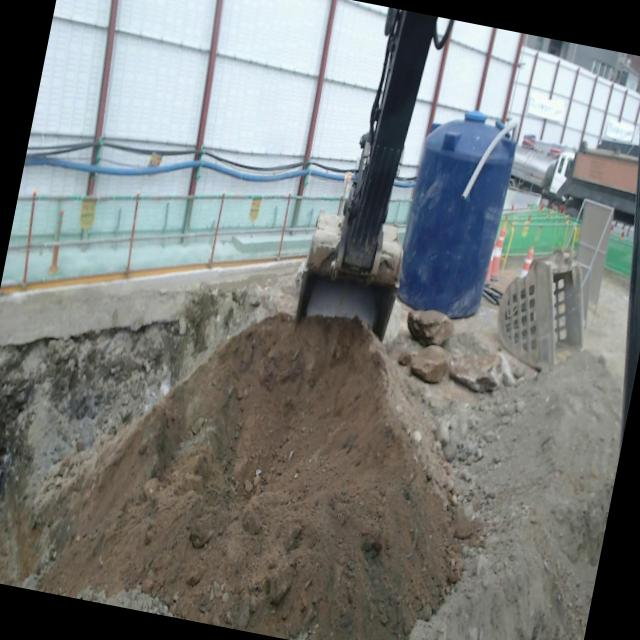stone: (449, 352, 509, 392), (407, 310, 454, 347), (407, 345, 450, 383)
white-sand: (0, 287, 621, 640)
